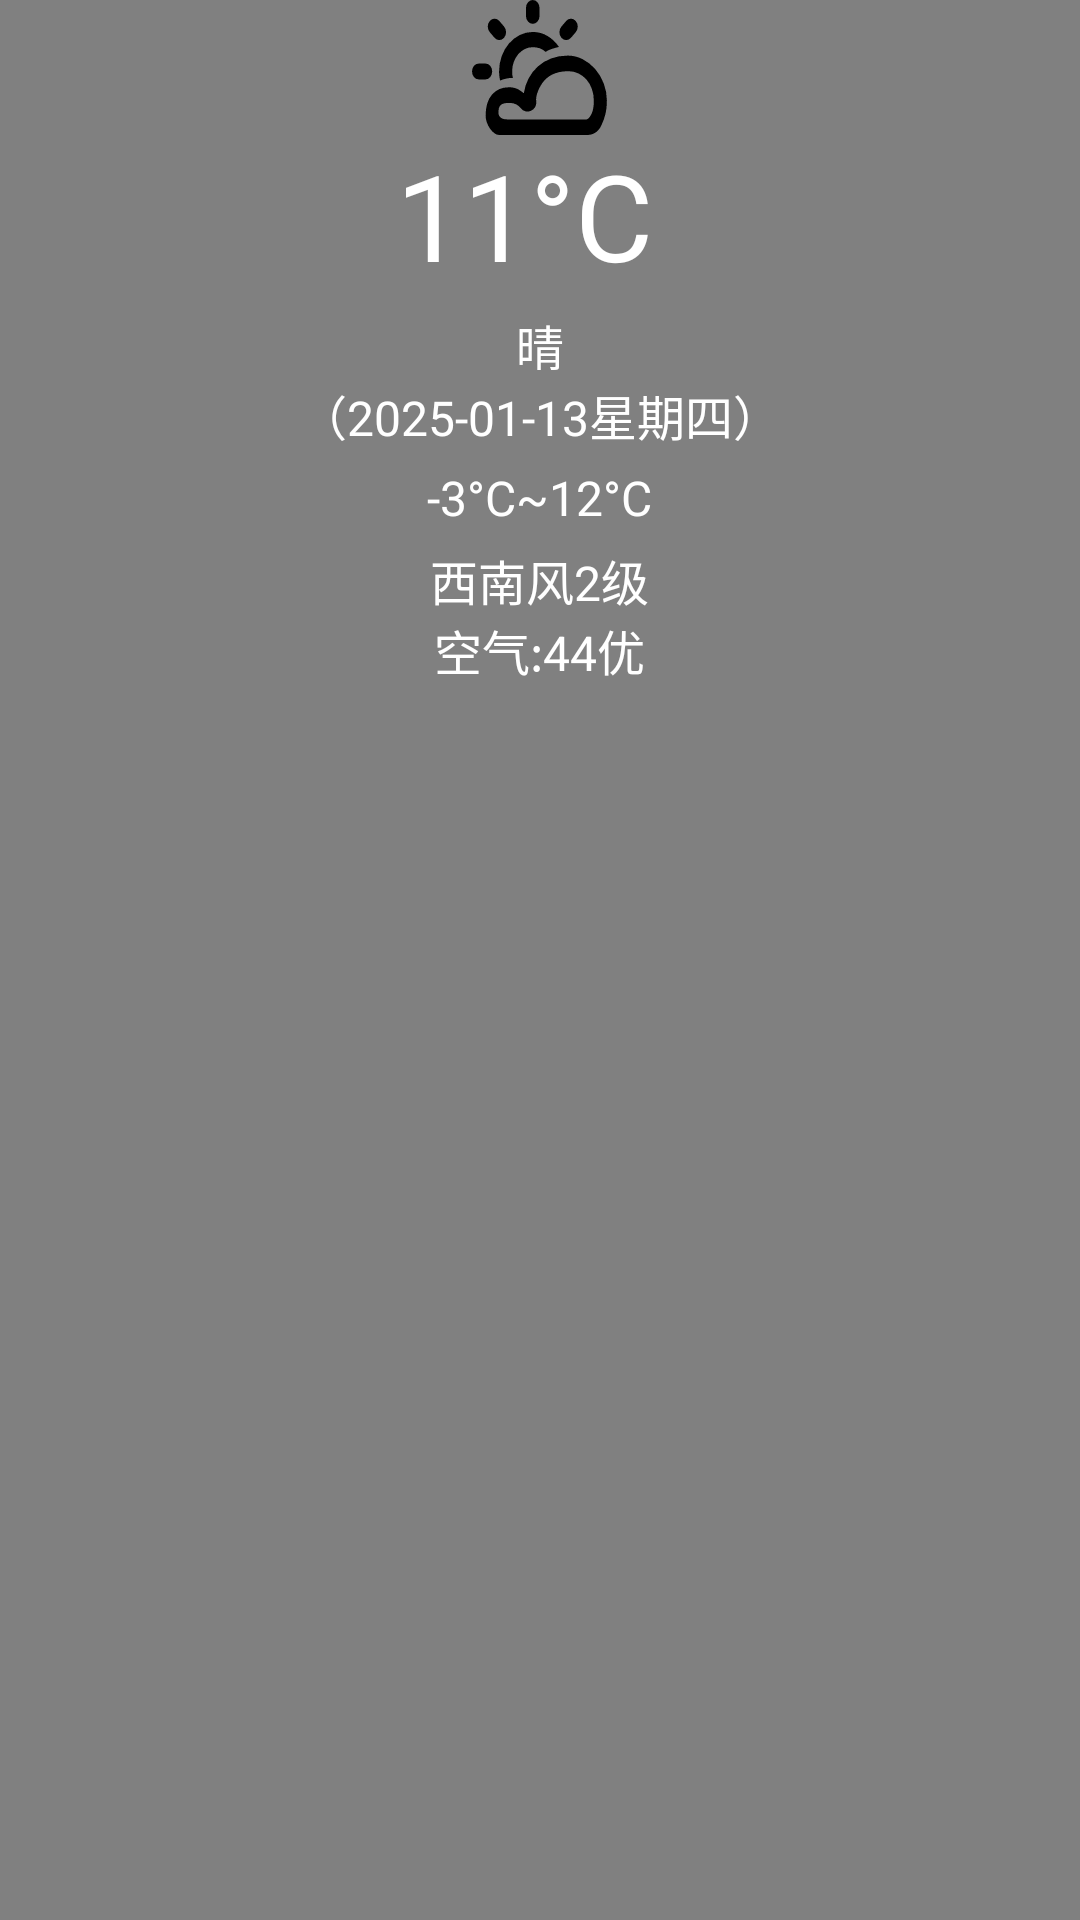

Locate icon controls on the screen. Image size 1080px×1920px, boxes as (x1, y1, x2, y2).
yun: (472, 0, 607, 135)
